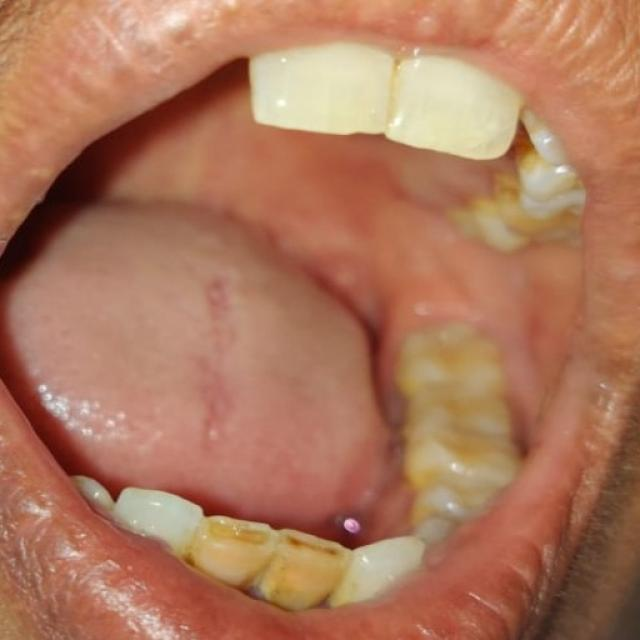processing_area: (1, 87, 581, 533)
